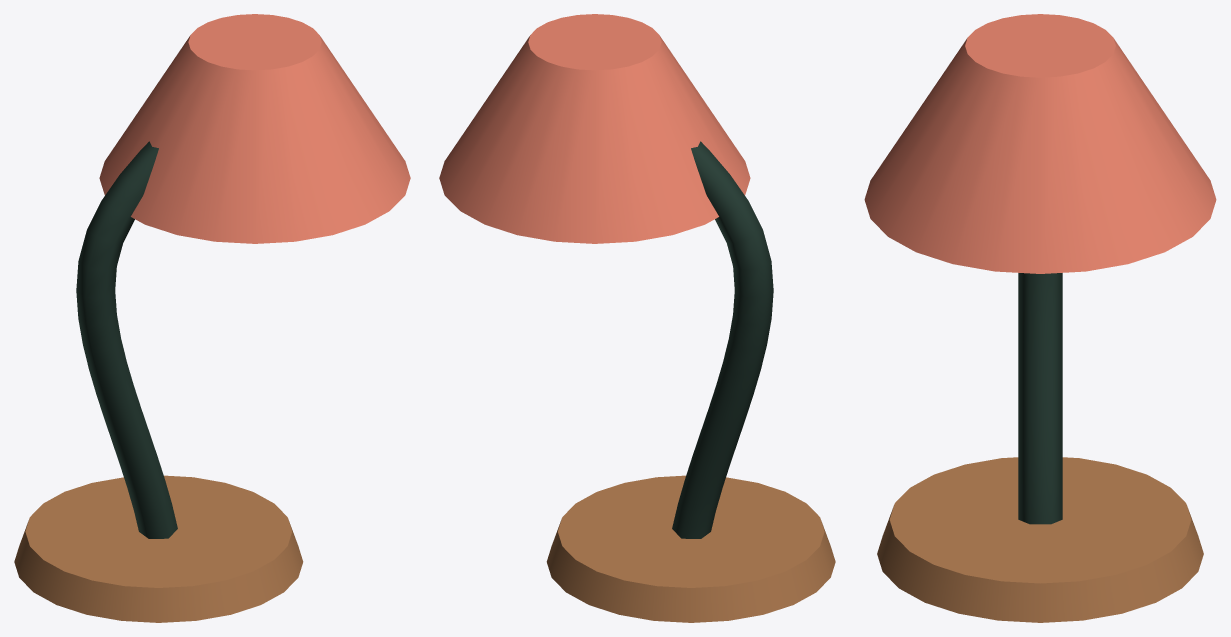
The model's file is desk-lamp.glb.
3 views of the same model, side by side, from view 1: azimuth 30°, elevation 25°; view 2: azimuth 150°, elevation 25°; view 3: azimuth 270°, elevation 25° (orthographic). The views are drawn at different scales.
Visible parts, largest first — view 1: desk_lamp; view 2: desk_lamp; view 3: desk_lamp.
Part boxes in pixels (box(x1,y1,x2,y2)): desk_lamp: box(14, 14, 410, 622); desk_lamp: box(439, 14, 835, 622); desk_lamp: box(864, 14, 1216, 622).
Size of the model in its own units: 0.74 by 0.985 by 0.56.
